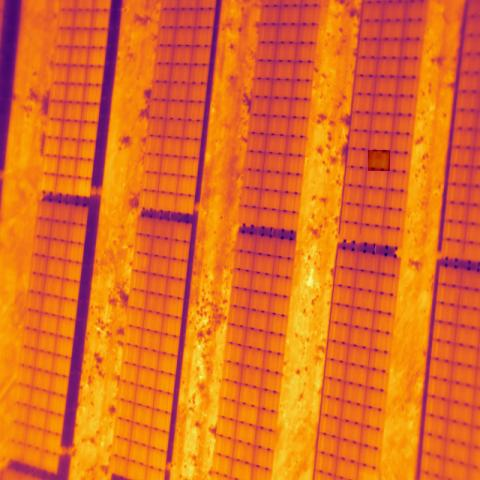fault: (368, 150, 390, 171)
